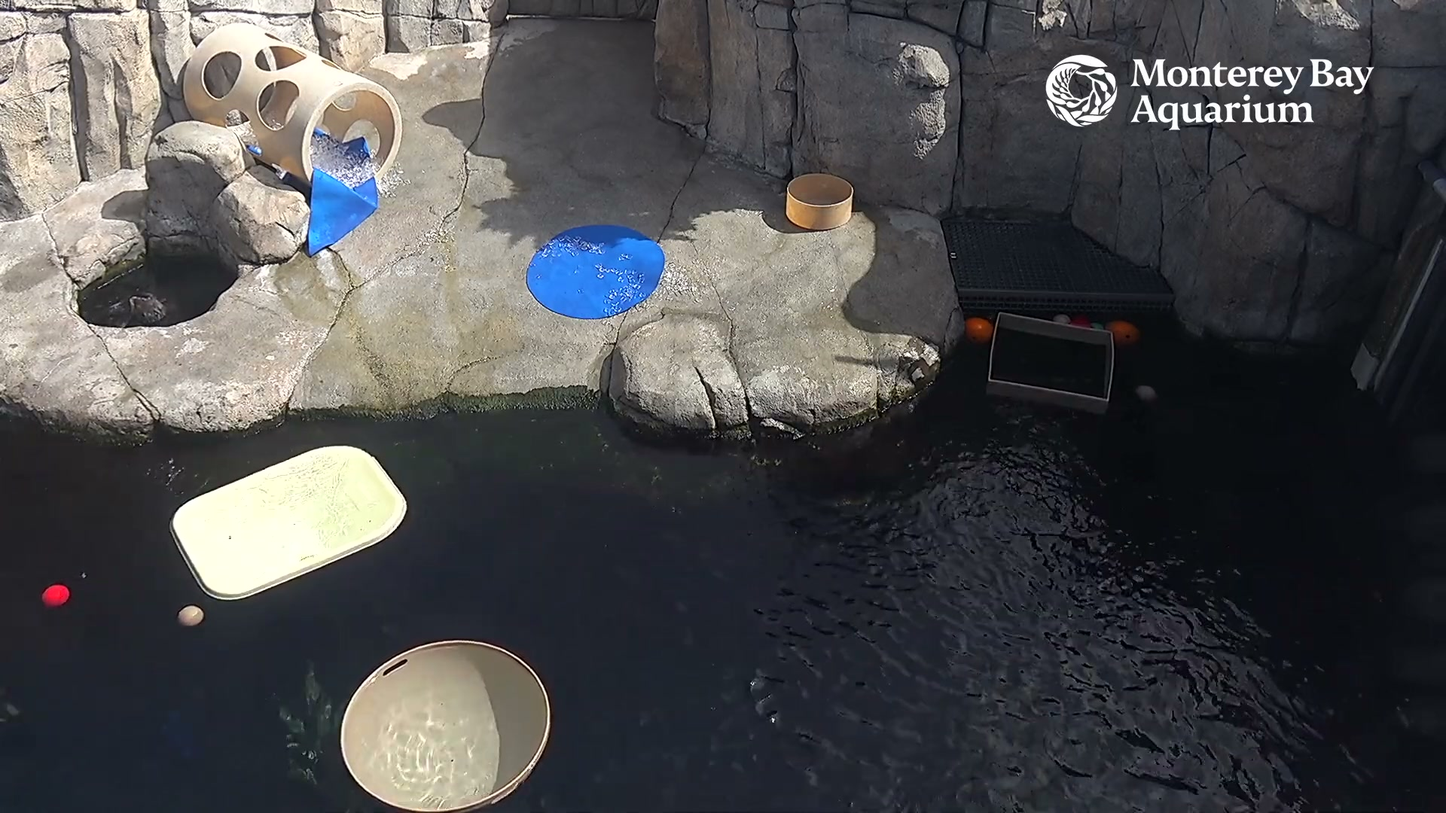Southern Sea Otter: (91, 286, 182, 331)
